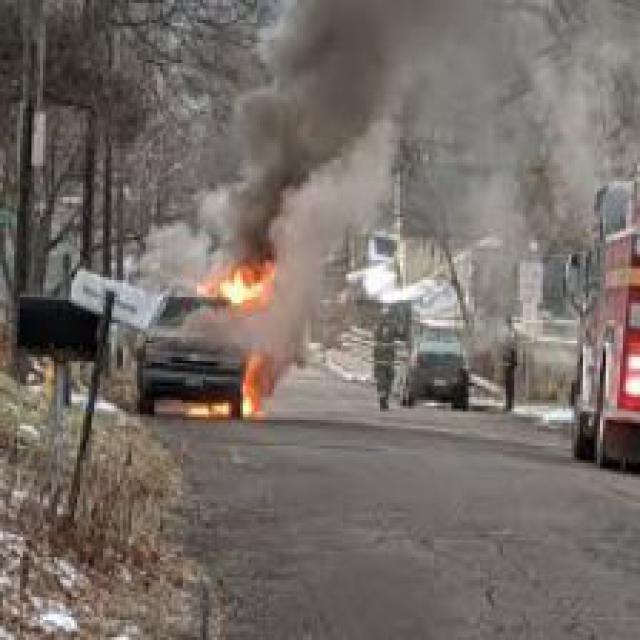fire: (186, 249, 300, 420)
